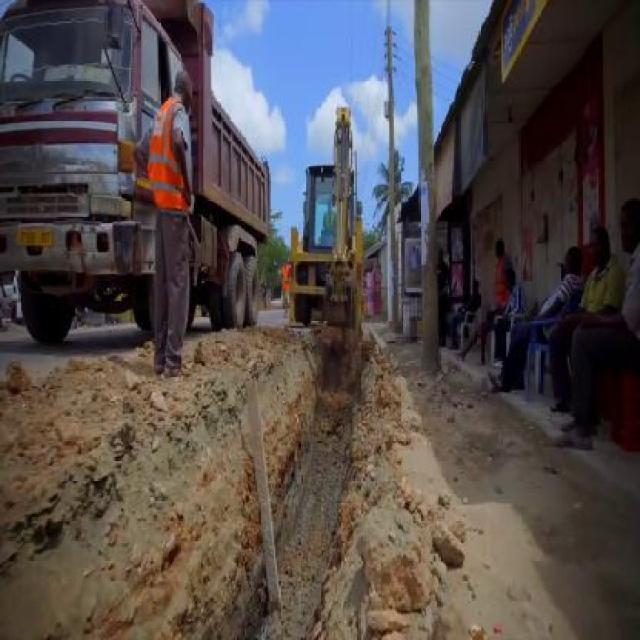dump_truck: (0, 0, 271, 346)
